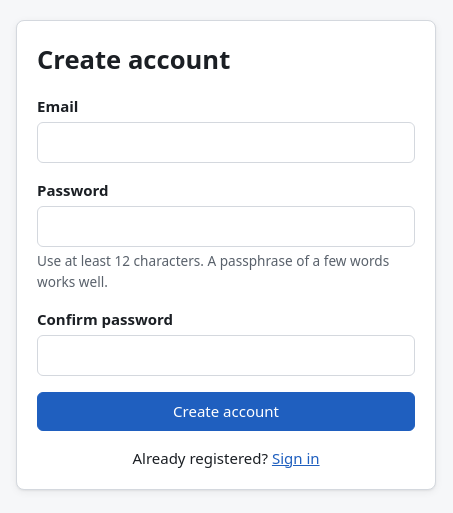
Scenario: RegisterPage › maps 400 errors.Password onto the password field
This screenshot has width=453, height=513.
Type "new@example.com" into the field labelled "Email" at [226, 143], box [37,122,415,163]
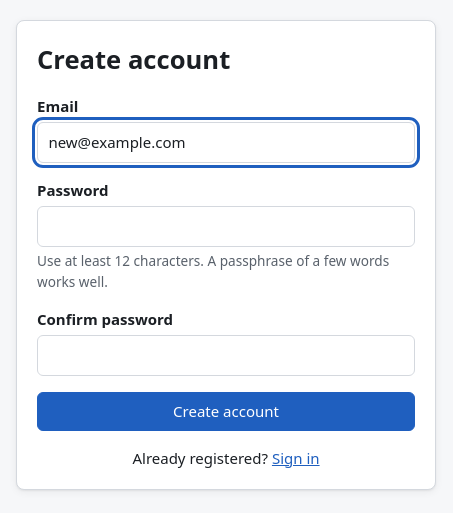
Type "a fine passphrase" into the password field labelled "Password" at [226, 226], box [37,206,415,247]
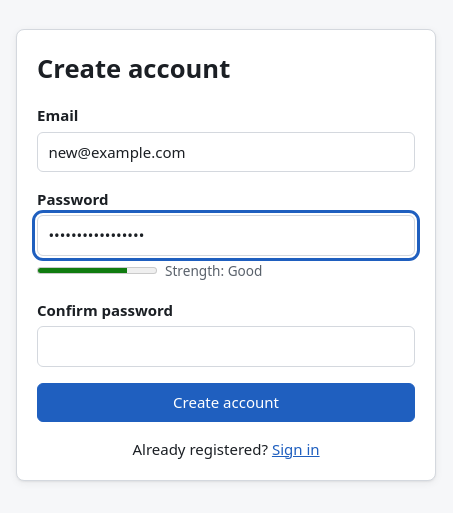
Type "a fine passphrase" into the password field labelled "Confirm password" at [226, 347], box [37,326,415,367]
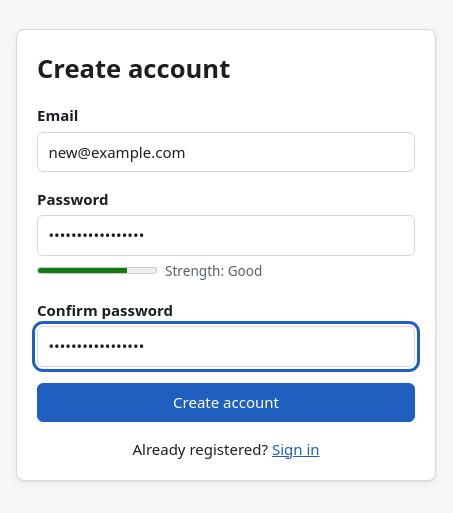
Click the button "Create account" at [226, 402], box [37,383,415,422]
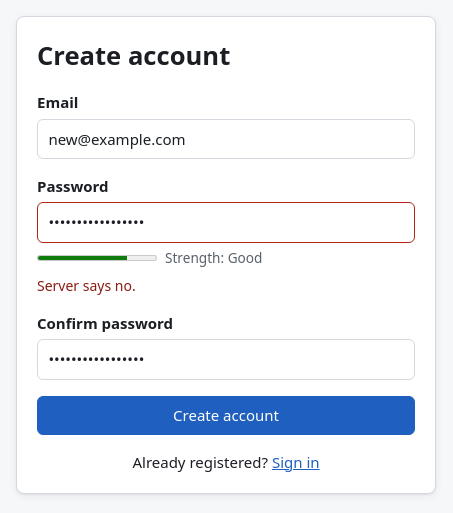
Expected: the text "Server says no." is shown, [37,276,136,295]
